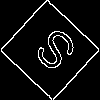S: (25, 25, 80, 81)
